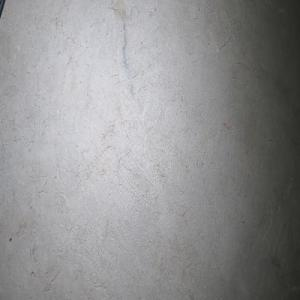Wire: (0, 0, 5, 20)
